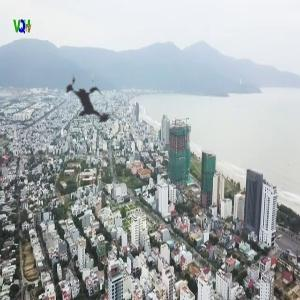drone: (41, 54, 135, 148)
